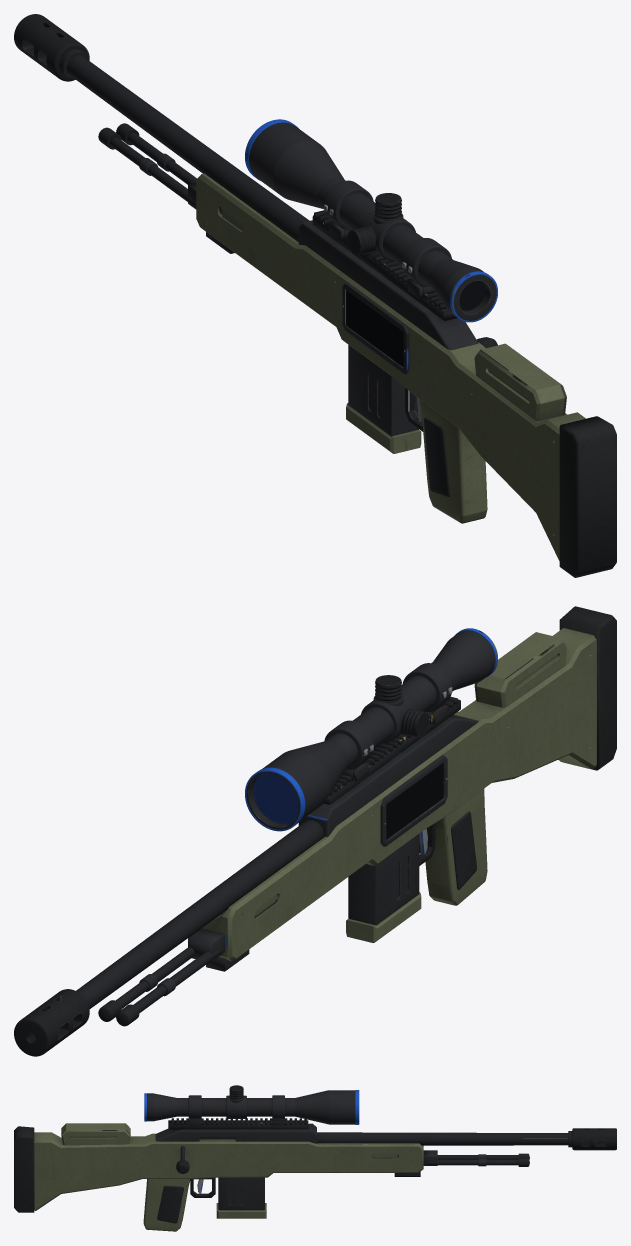
The model's file is rifle.glb.
3 views of the same model, one above another, from view 1: azimuth 30°, elevation 25°; view 2: azimuth 150°, elevation 25°; view 3: azimuth 270°, elevation 25° (orthographic). The views are drawn at different scales.
Parts seen in each view (by area): view 1: body, mag, battlestat_screen, battlestat_frame; view 2: body, mag, battlestat_screen, lens, battlestat_frame; view 3: body, mag, bolt.
Boxes of the visible parts, x1,y1,x2,y2 form: body: [14, 14, 616, 577]; mag: [346, 345, 421, 453]; battlestat_screen: [346, 290, 403, 366]; battlestat_frame: [342, 282, 409, 373]; body: [14, 606, 616, 1056]; mag: [346, 834, 421, 942]; battlestat_screen: [386, 763, 443, 839]; lens: [253, 774, 298, 823]; battlestat_frame: [380, 755, 447, 846]; body: [14, 1085, 616, 1231]; mag: [216, 1177, 266, 1218]; bolt: [176, 1146, 189, 1173].
Bounding box in the file's own units: 0.1078 × 0.2999 × 1.16.
Materials: 4 (1 with a texture image).
